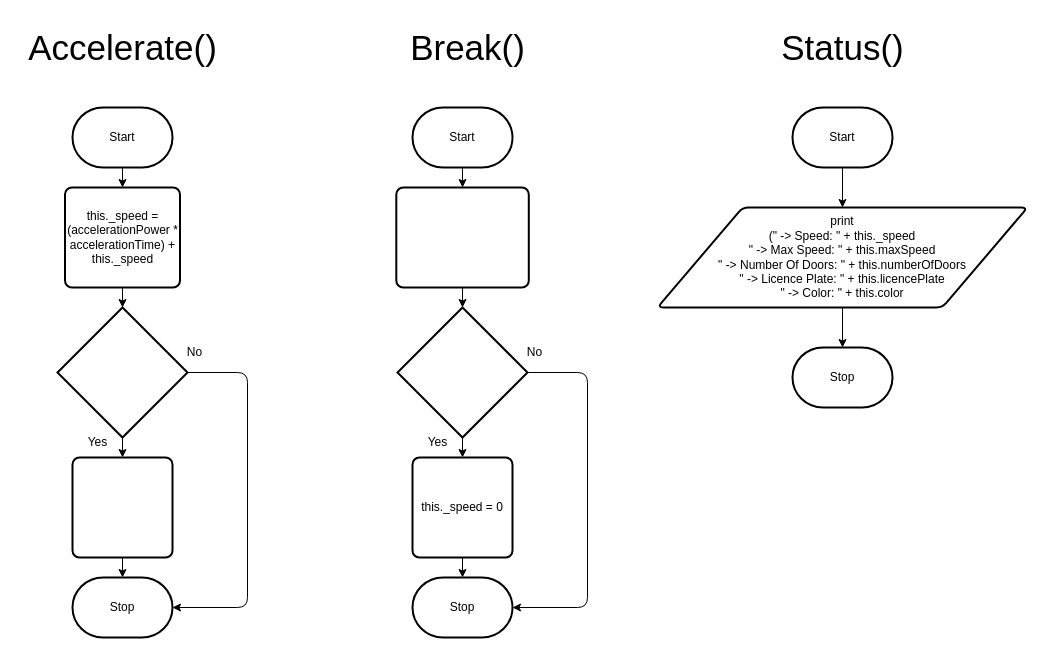
Image size: 1045x655. Some labels were removed from this diagram. Each missing label, with the centre of its shape:
if (this._speed < 0): point (462, 372)
if (this._speed > this.maxSpeed): point (122, 372)
this._speed = this._speed - (breakPower * breakTime): point (462, 237)
this._speed = this.maxSpeed: point (122, 507)
